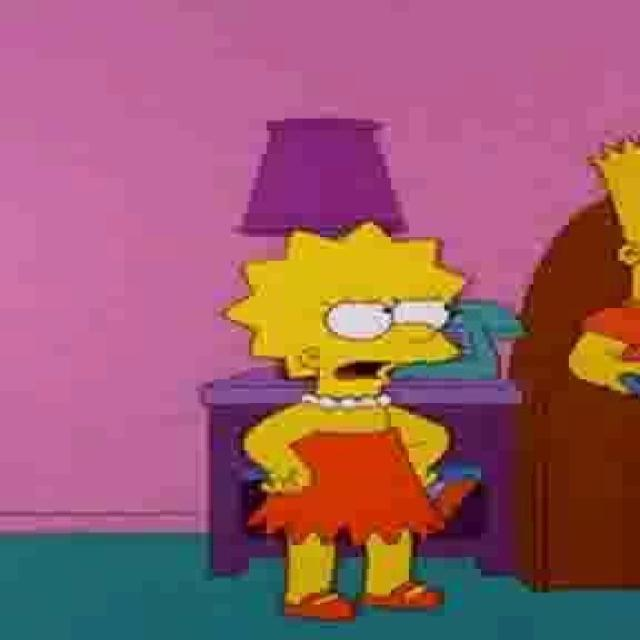Lisa Simpson: (218, 224, 471, 410)
